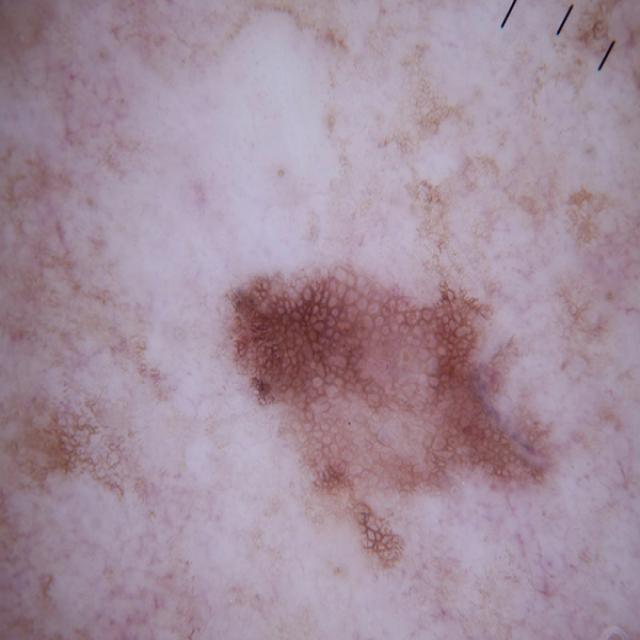Skin-Cancer Pigmented benign keratosis: (54, 35, 626, 614)
